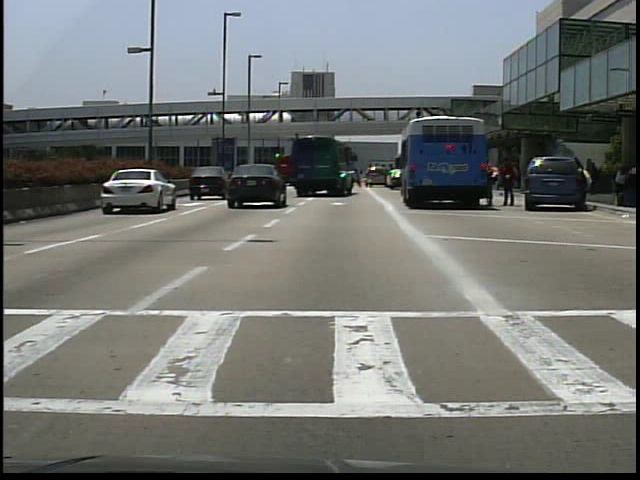person: (500, 158, 517, 206), (487, 155, 501, 206), (577, 164, 595, 203)
